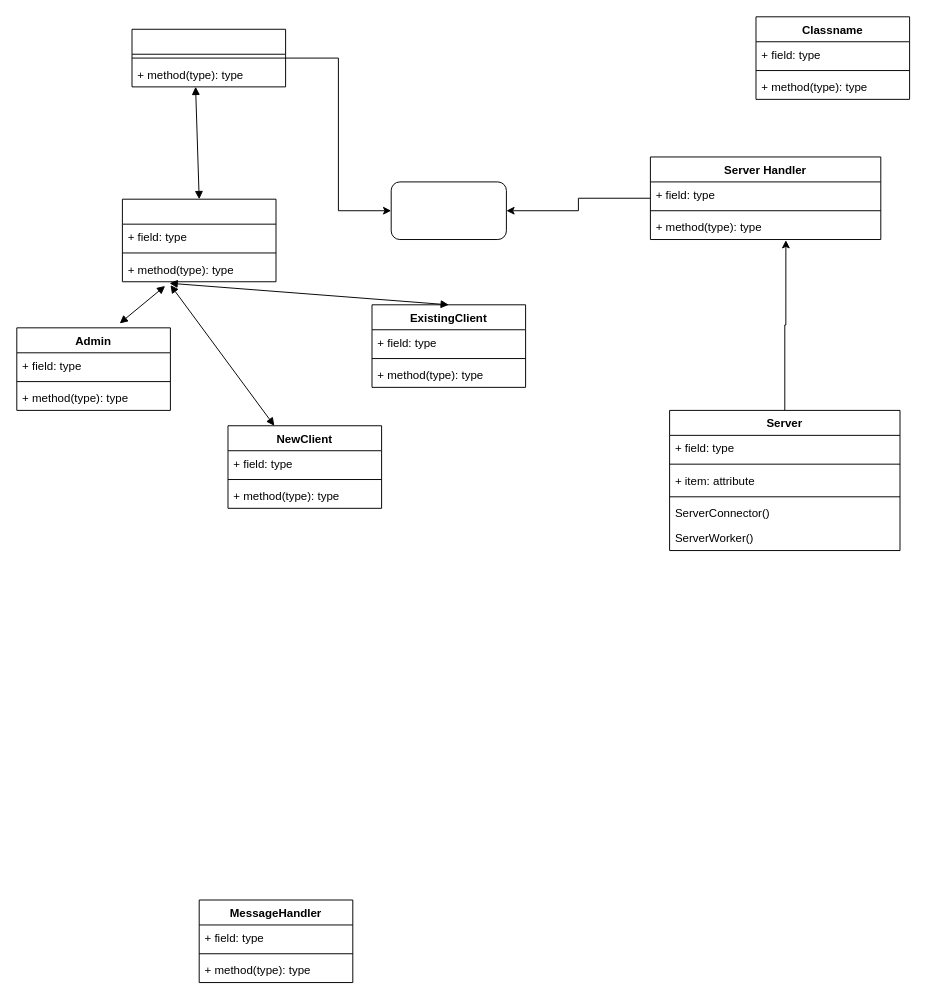
Some shapes in this 926 by 1002 pixel diagram are drawn without their labels. Each missing label, with the box of its shape:
Client Connector: (131, 28, 286, 87)
Client Handler: (121, 198, 276, 282)
Socket: (390, 181, 506, 240)
